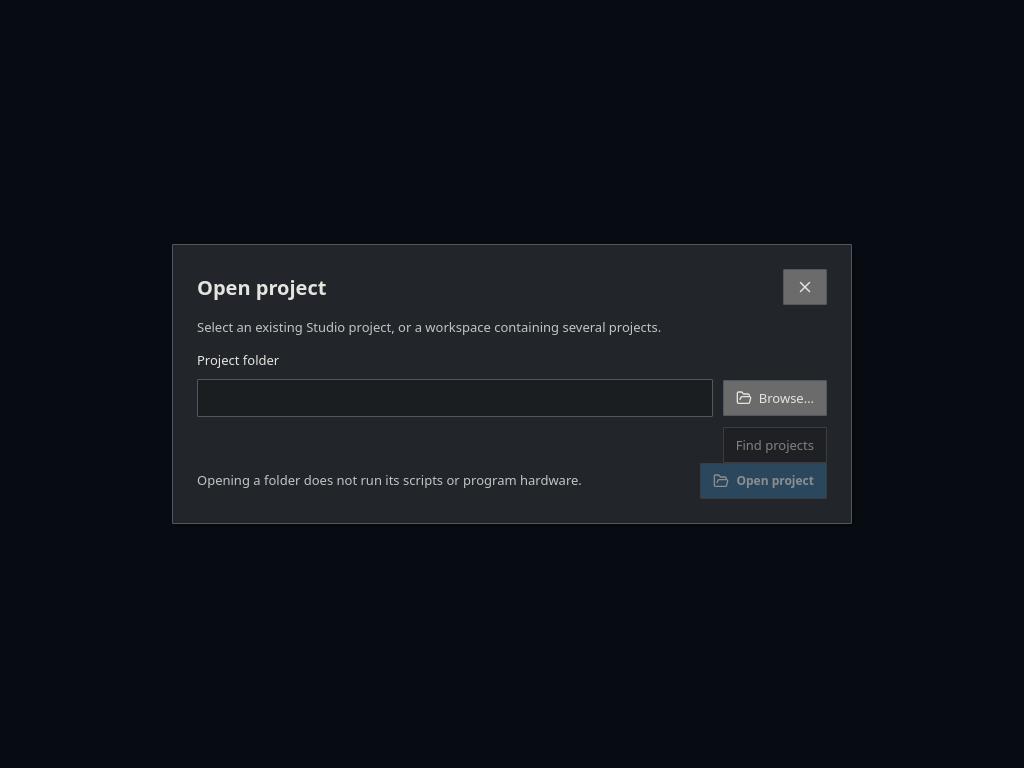
Test case: open project folder › keeps the current project when recognition fails
In the field labelled "Project folder": coordinates (455, 398) [197,379,713,417], type "C:/My Labs/UART"
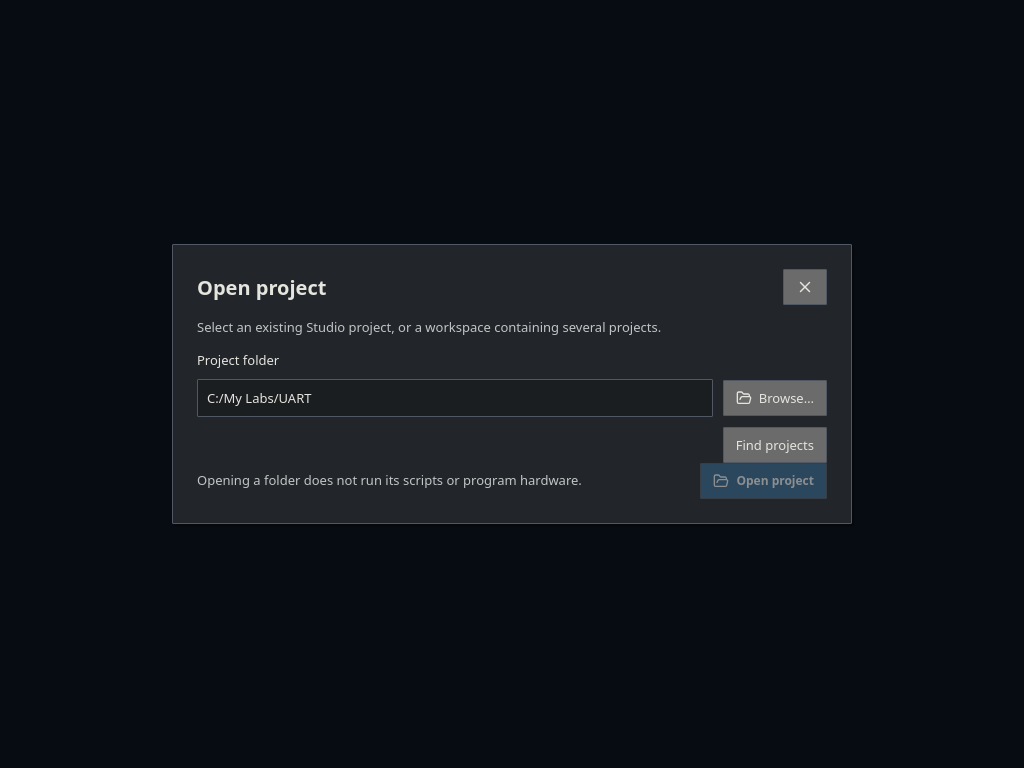
Click the button "Find projects": coordinates (775, 445) [723,427,827,463]
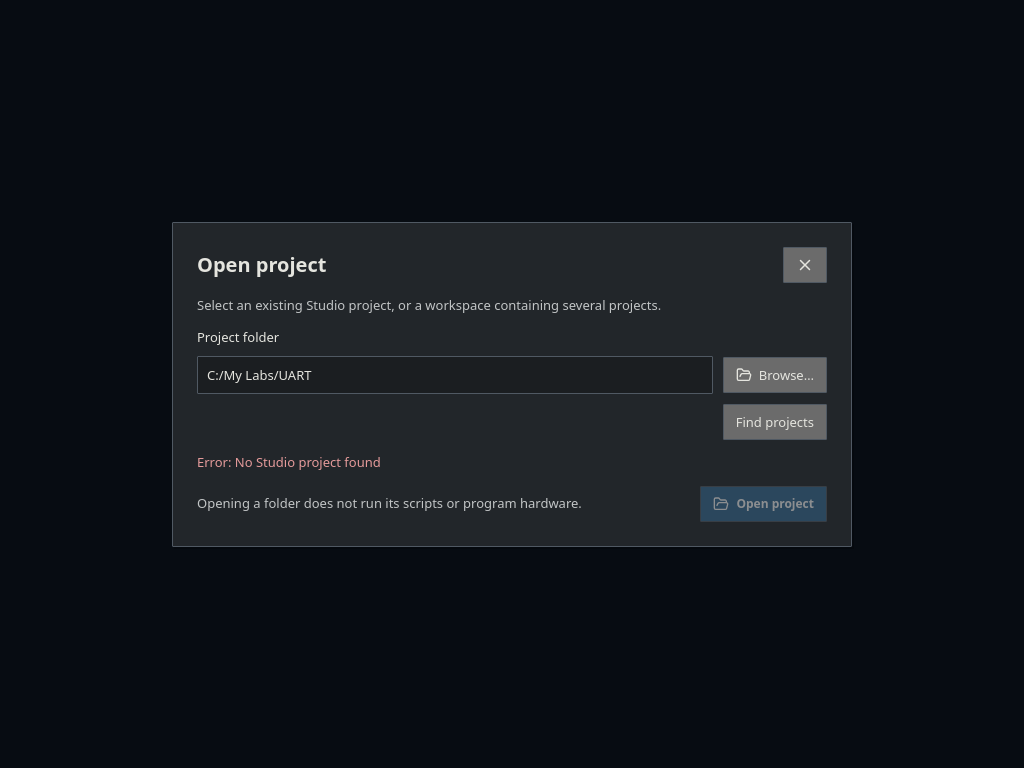
Expected: the button "Open project" is disabled, [700,486,827,522]
Expected: the message "Error: No Studio project found" is shown, [197,453,381,471]
